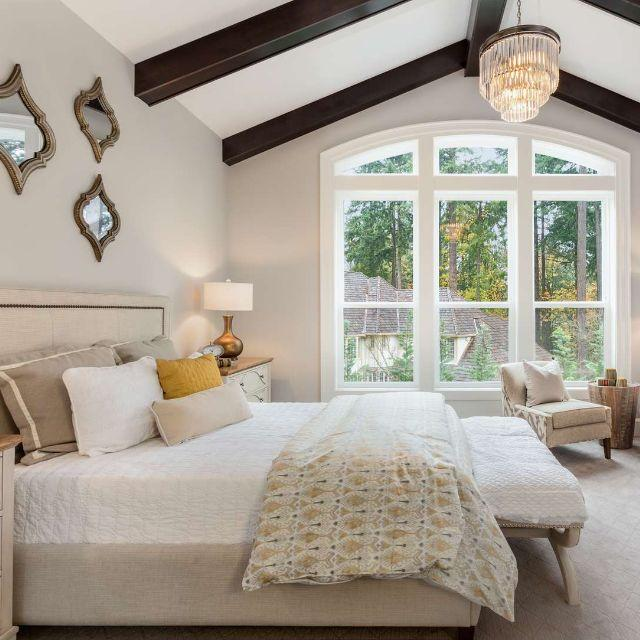bed: (0, 404, 590, 636)
chair: (493, 353, 623, 464)
lamp: (192, 274, 258, 366)
mirror: (525, 128, 634, 390), (429, 128, 518, 387), (332, 158, 416, 390)
pillow: (0, 342, 110, 455), (65, 360, 174, 448), (151, 390, 247, 443), (157, 351, 236, 397)
